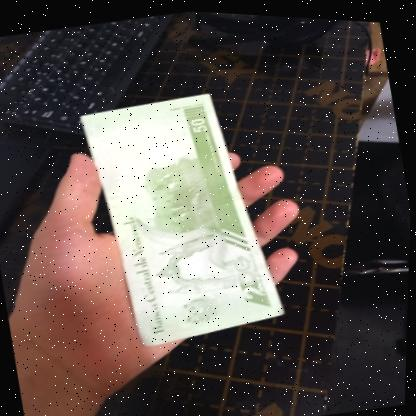fifty-back-vef: (74, 76, 295, 356)
